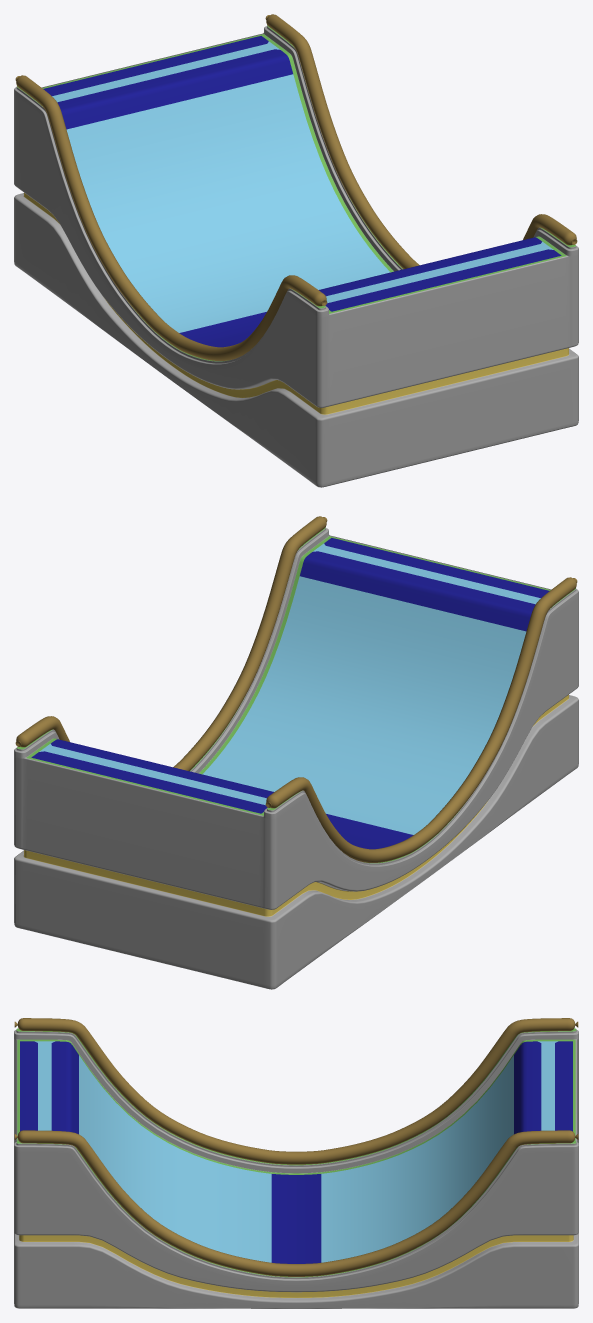
The model's file is SM_Halfpipe_01.fbx.
3 renders of one model, top to bottom at view 1: azimuth 30°, elevation 25°; view 2: azimuth 150°, elevation 25°; view 3: azimuth 270°, elevation 25°, orthographic. The views are drawn at different scales.
Visible parts, largest first — view 1: SM_Halfpipe_Wide_01; view 2: SM_Halfpipe_Wide_01; view 3: SM_Halfpipe_Wide_01.
Part boxes in pixels (x1,y1,x2,y2): SM_Halfpipe_Wide_01: (14,14,578,487); SM_Halfpipe_Wide_01: (14,516,578,989); SM_Halfpipe_Wide_01: (14,1018,578,1308).
Size of the model in its own units: 2140 by 1486 by 4338.
